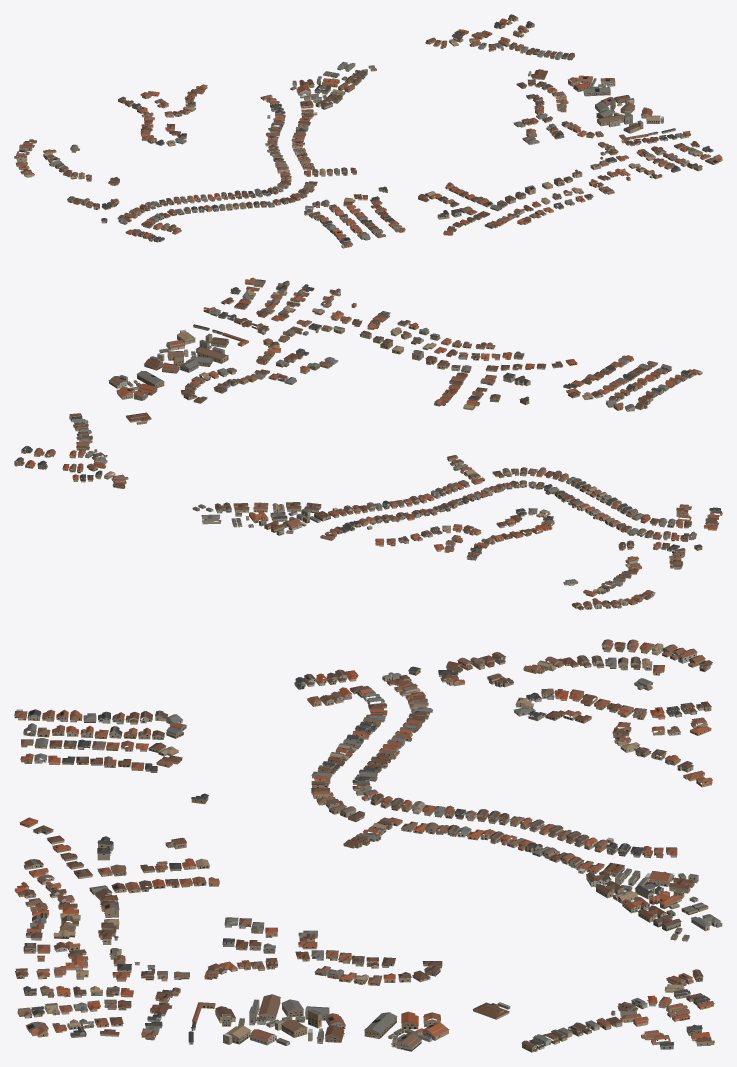
3 views of the same model, one above another, from view 1: azimuth 30°, elevation 25°; view 2: azimuth 150°, elevation 25°; view 3: azimuth 270°, elevation 25° (orthographic). The views are drawn at different scales.
Parts seen in each view (by area): view 1: buildings_r6_c6_lod0; view 2: buildings_r6_c6_lod0; view 3: buildings_r6_c6_lod0.
Part boxes in pixels (x1=…): buildings_r6_c6_lod0: x1=14, y1=14, x2=722, y2=248; buildings_r6_c6_lod0: x1=14, y1=277, x2=722, y2=610; buildings_r6_c6_lod0: x1=14, y1=639, x2=722, y2=1052.
Bounding box in the file's own units: 1147 × 79.47 × 808.
